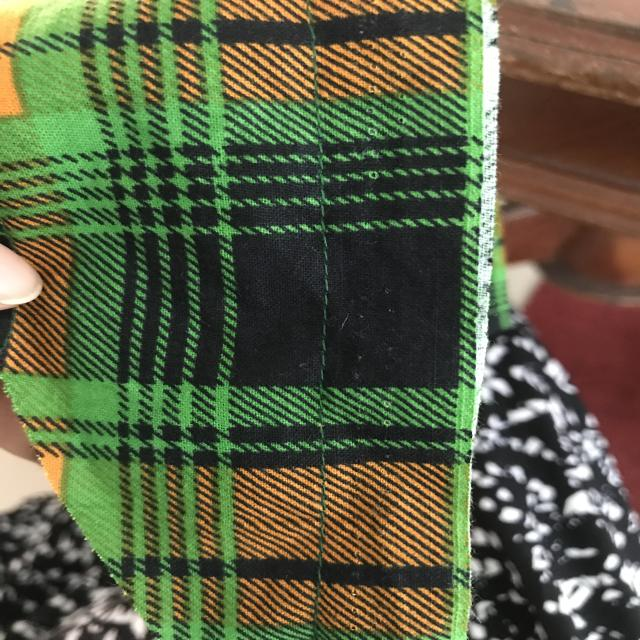good: (301, 242, 350, 345)
